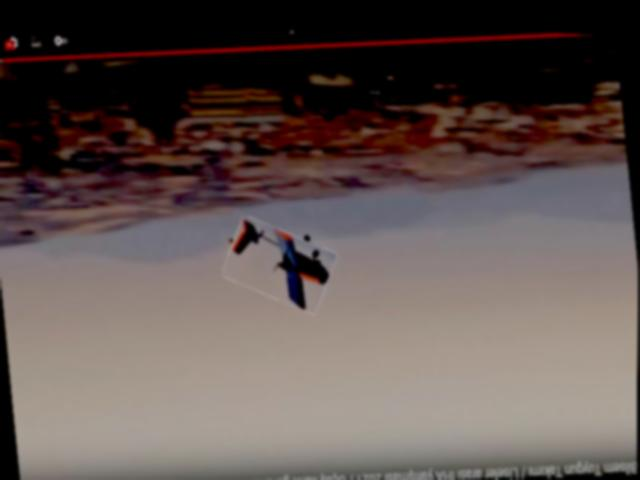insansiz-hava-araci: (221, 211, 339, 312)
